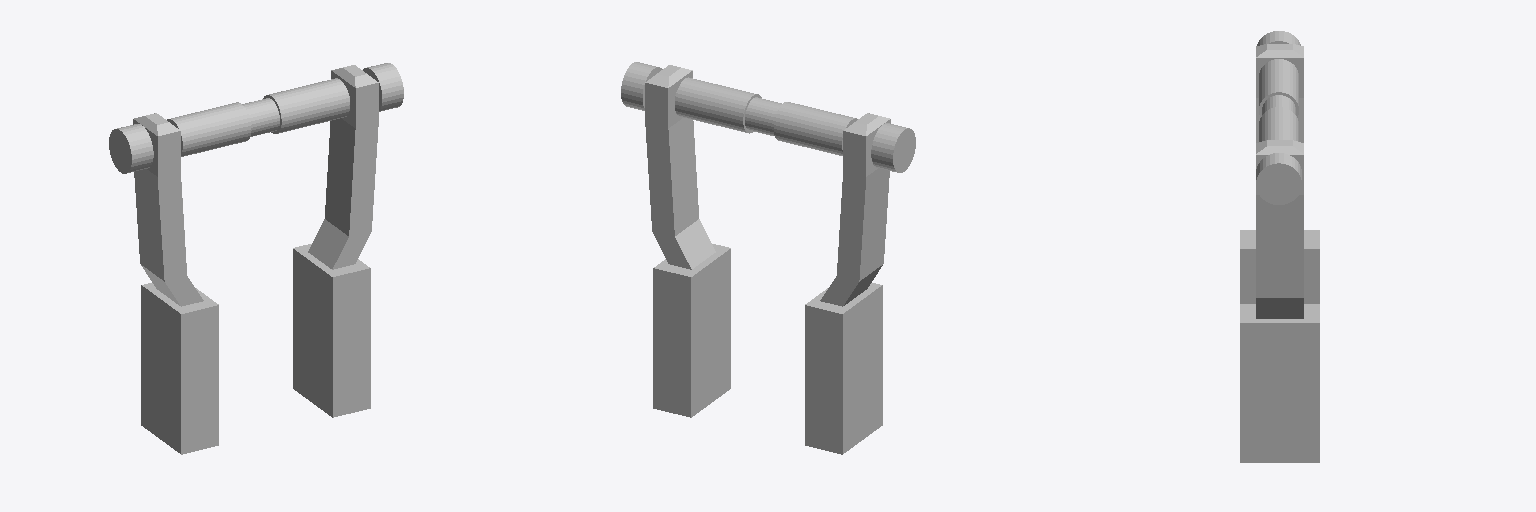
The model's file is paka_2.obj.
3 renders of one model, left to right at view 1: azimuth 30°, elevation 25°; view 2: azimuth 150°, elevation 25°; view 3: azimuth 270°, elevation 25°, orthographic.
Visible parts, largest first — view 1: Cylinder.007; view 2: Cylinder.007; view 3: Cylinder.007.
Boxes of the visible parts, x1=… form: Cylinder.007: x1=109, y1=63, x2=403, y2=454; Cylinder.007: x1=621, y1=62, x2=915, y2=454; Cylinder.007: x1=1240, y1=31, x2=1319, y2=462.
Size of the model in its own units: 0.1326 by 0.1501 by 0.0337.